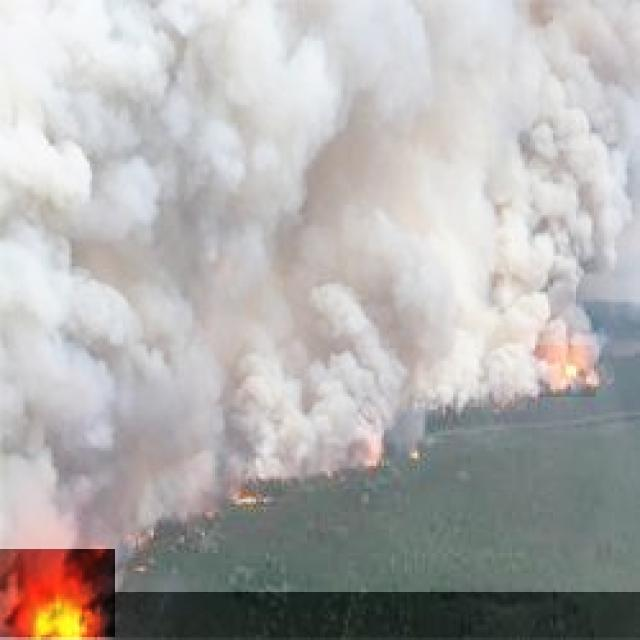Fire: (0, 549, 115, 637), (534, 345, 596, 397)
Smoke: (0, 0, 640, 592)
